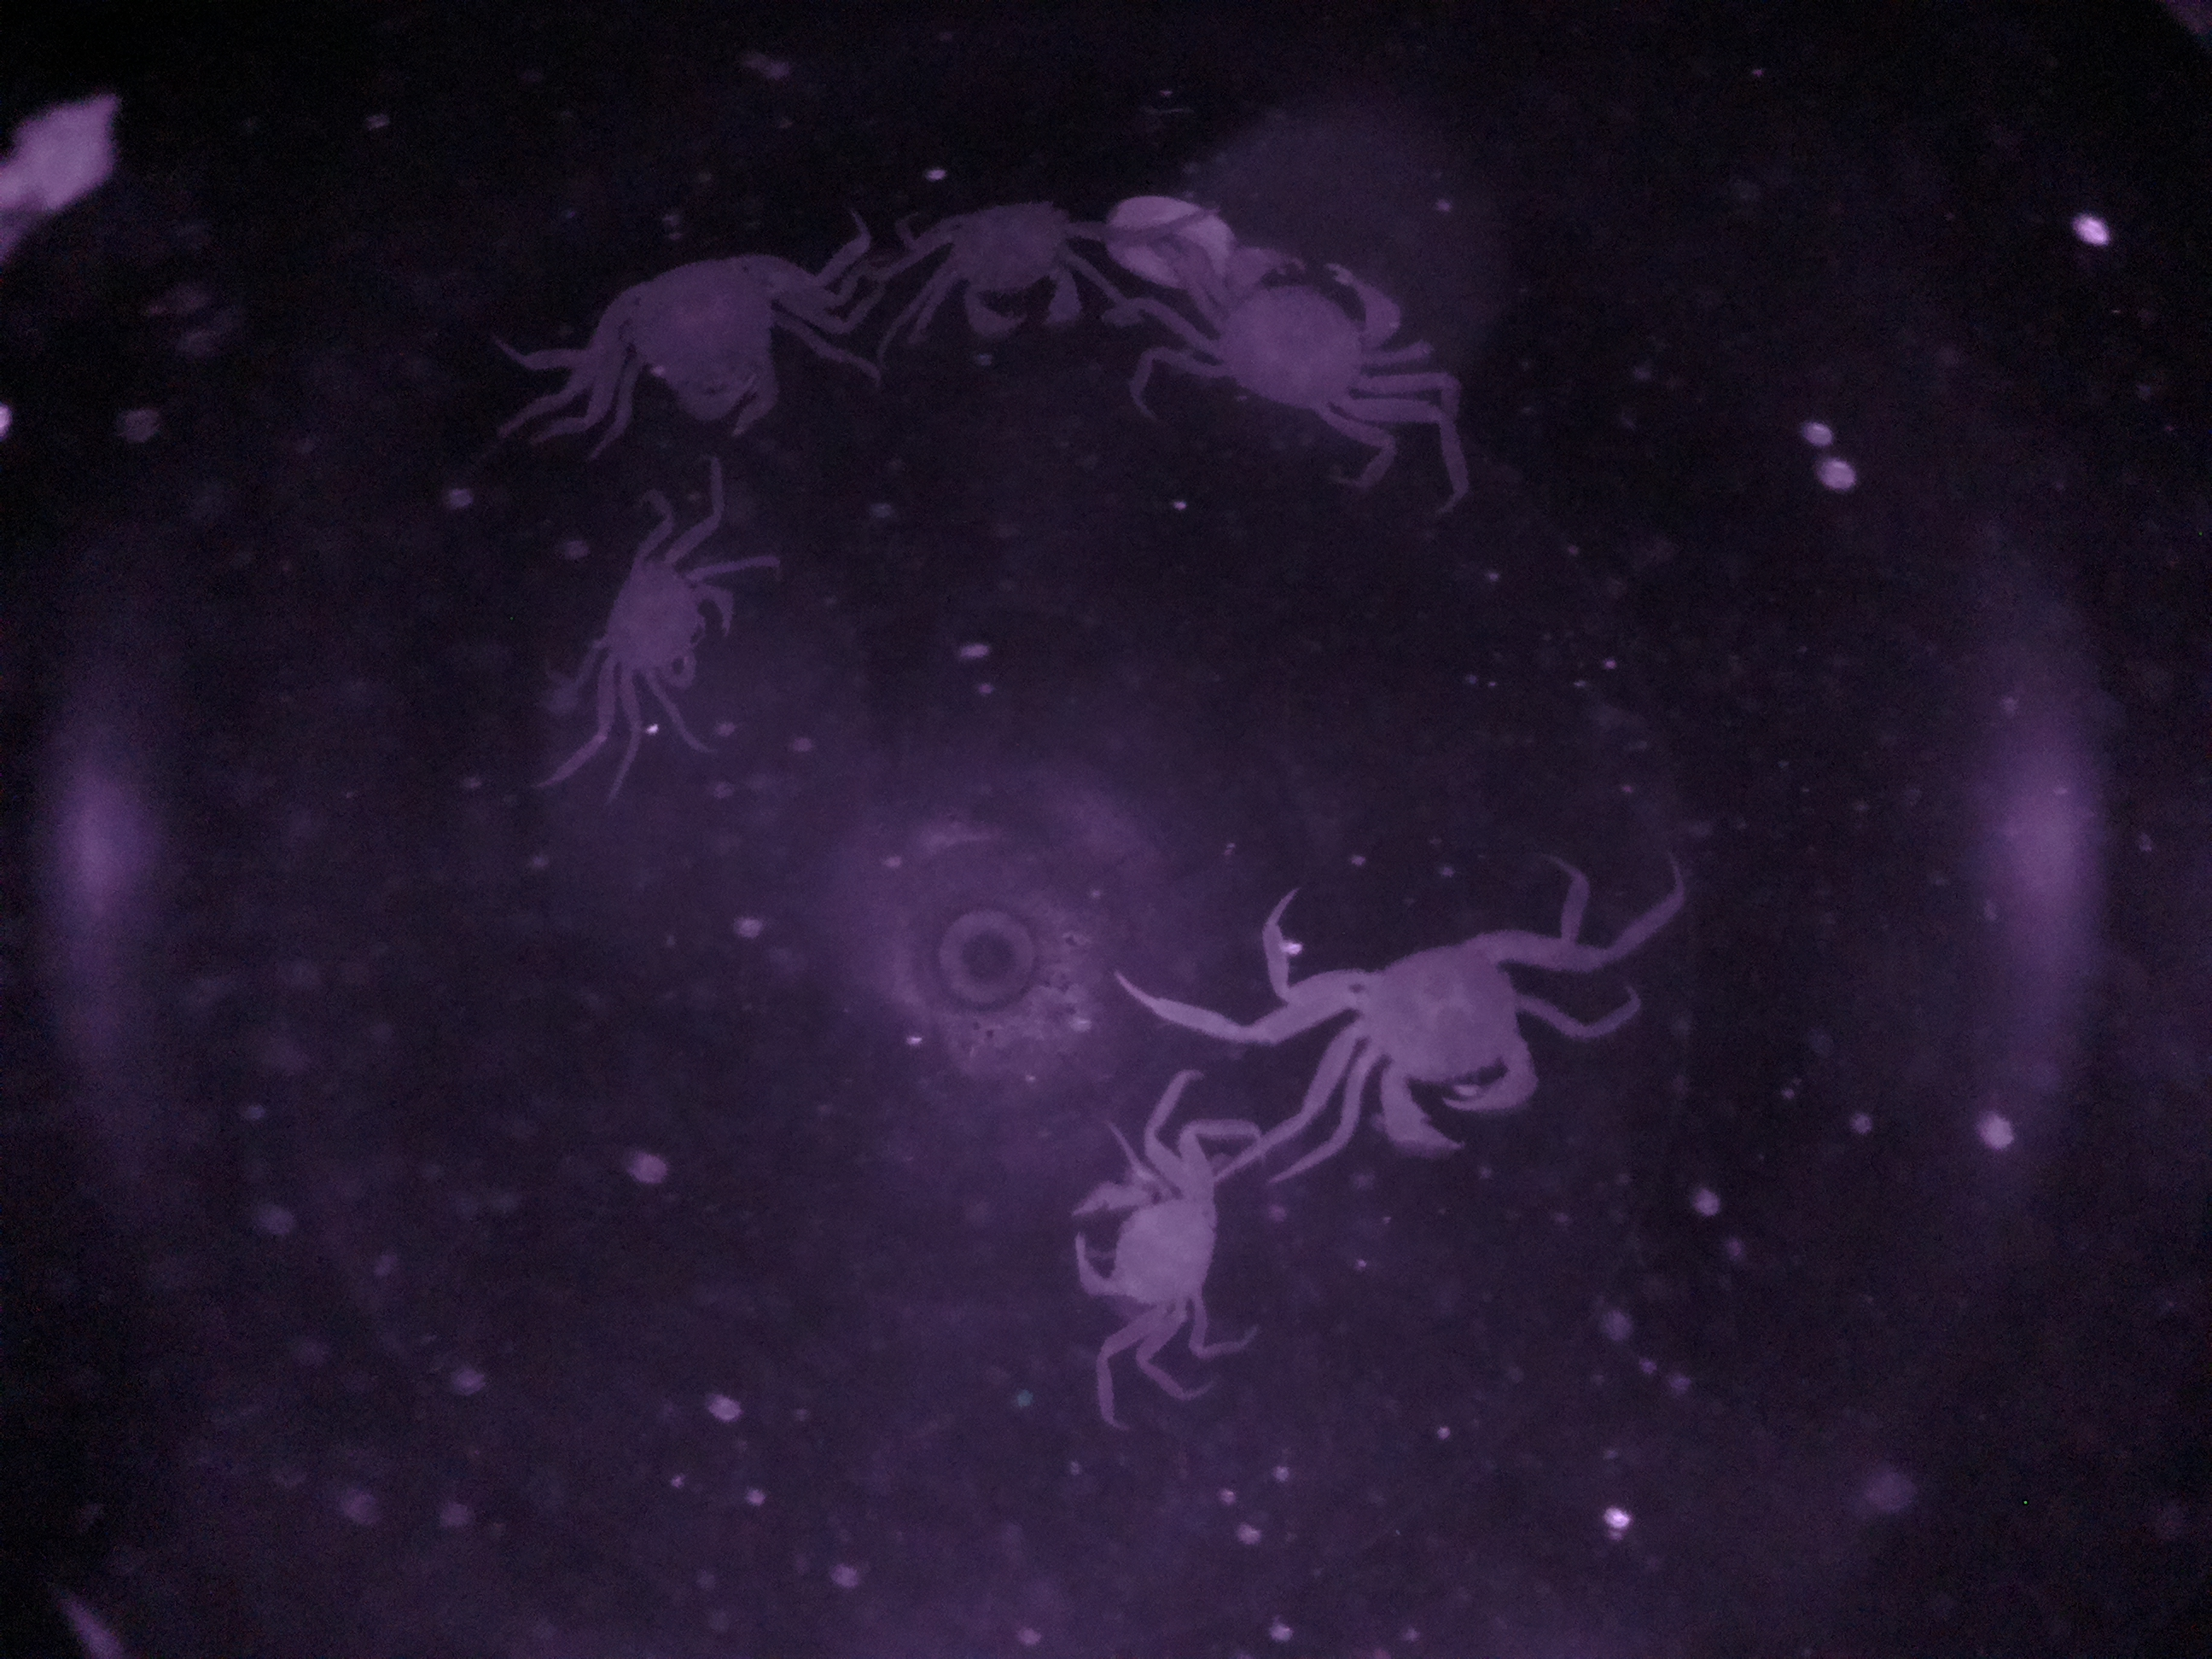Crab: (1268, 906, 1588, 1171), (1160, 232, 1442, 425), (1052, 1127, 1244, 1366), (890, 186, 1127, 354), (583, 518, 737, 746)
